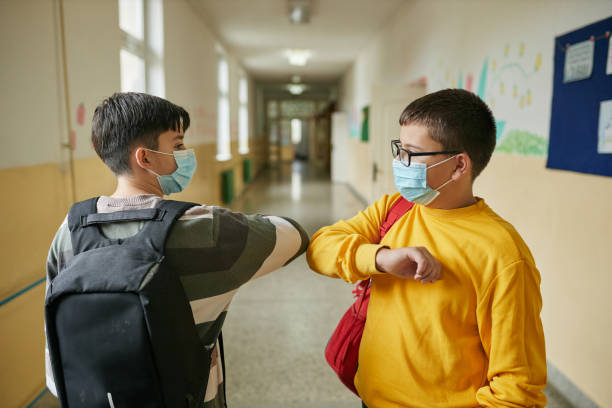with mask: (387, 90, 505, 213), (90, 90, 209, 197)
